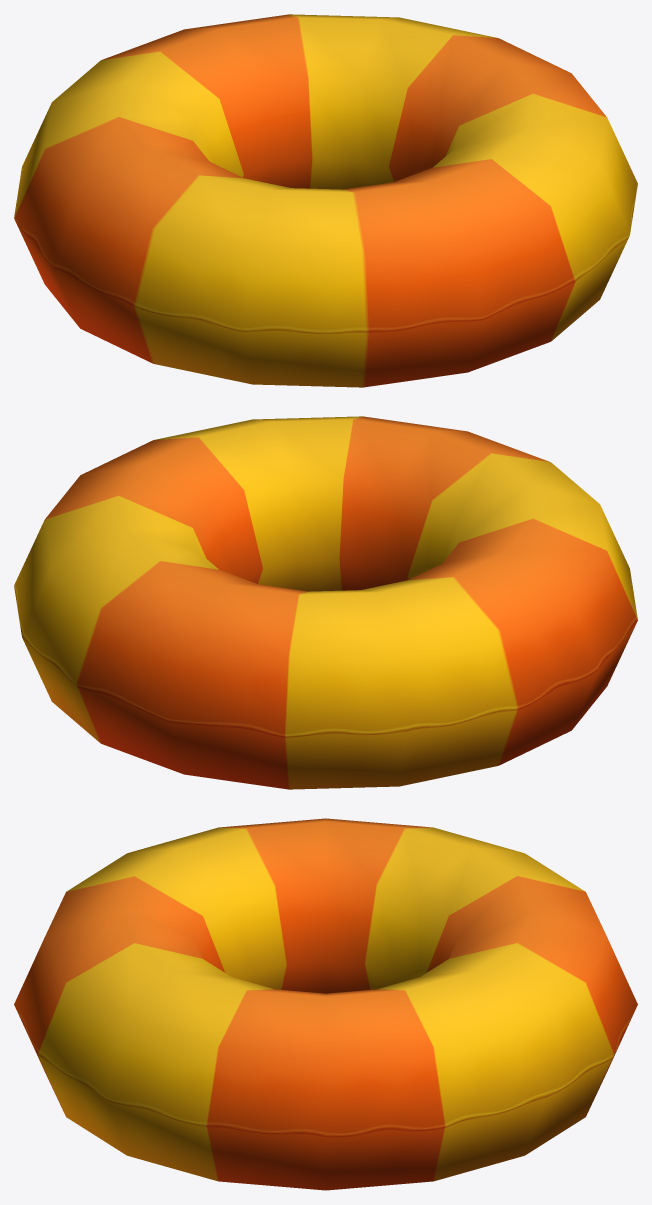
Rendered from SwimRing.FBX.
The picture shows the model from 3 angles, top to bottom: view 1: azimuth 30°, elevation 25°; view 2: azimuth 150°, elevation 25°; view 3: azimuth 270°, elevation 25°; orthographic projection.
Parts seen in each view (by area): view 1: SwimRing; view 2: SwimRing; view 3: SwimRing.
Boxes of the visible parts, x1,y1,x2,y2 form: SwimRing: [14, 14, 637, 387]; SwimRing: [14, 416, 637, 789]; SwimRing: [14, 818, 637, 1190].
Size of the model in its own units: 95.63 by 32.11 by 95.63.
